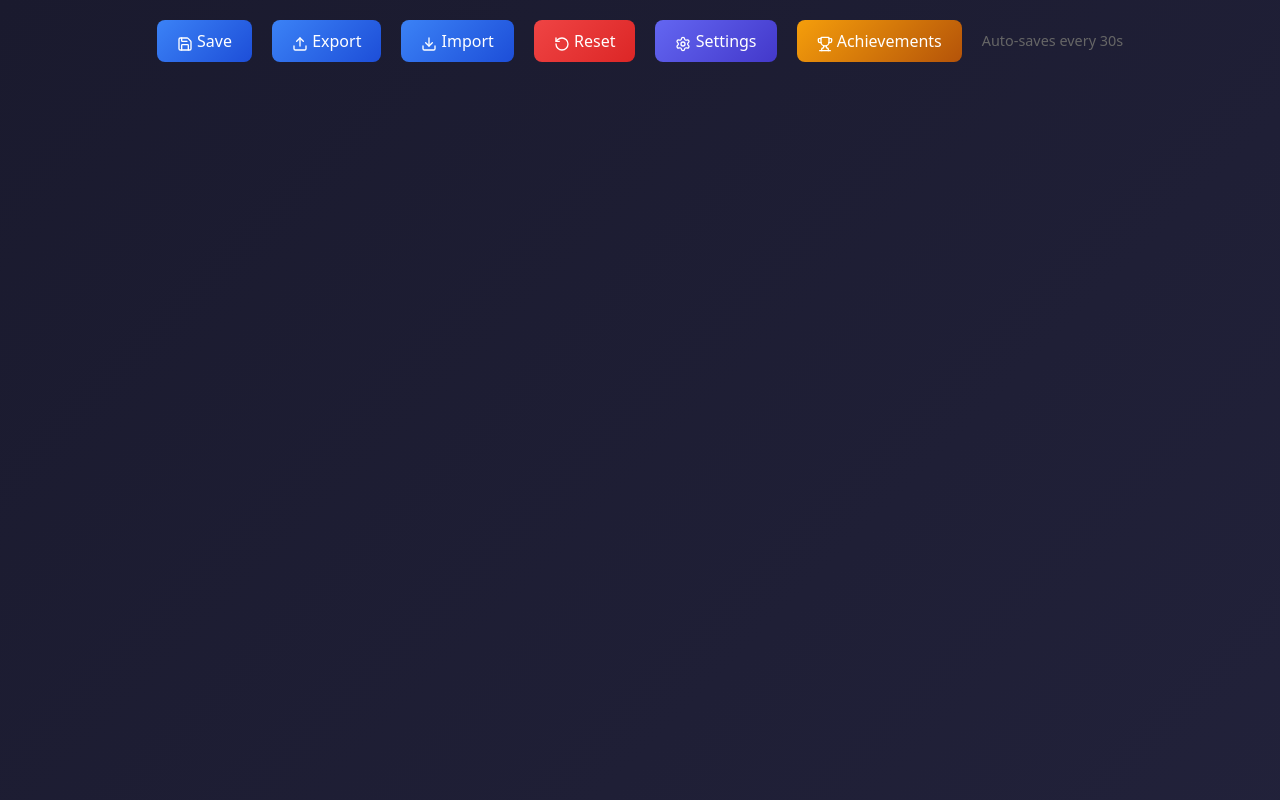
Footer › export functionality › should show success toast after export
The width and height of the screenshot is (1280, 800).
Click the button "Export" at coordinates (327, 41), box [272,20,381,62]
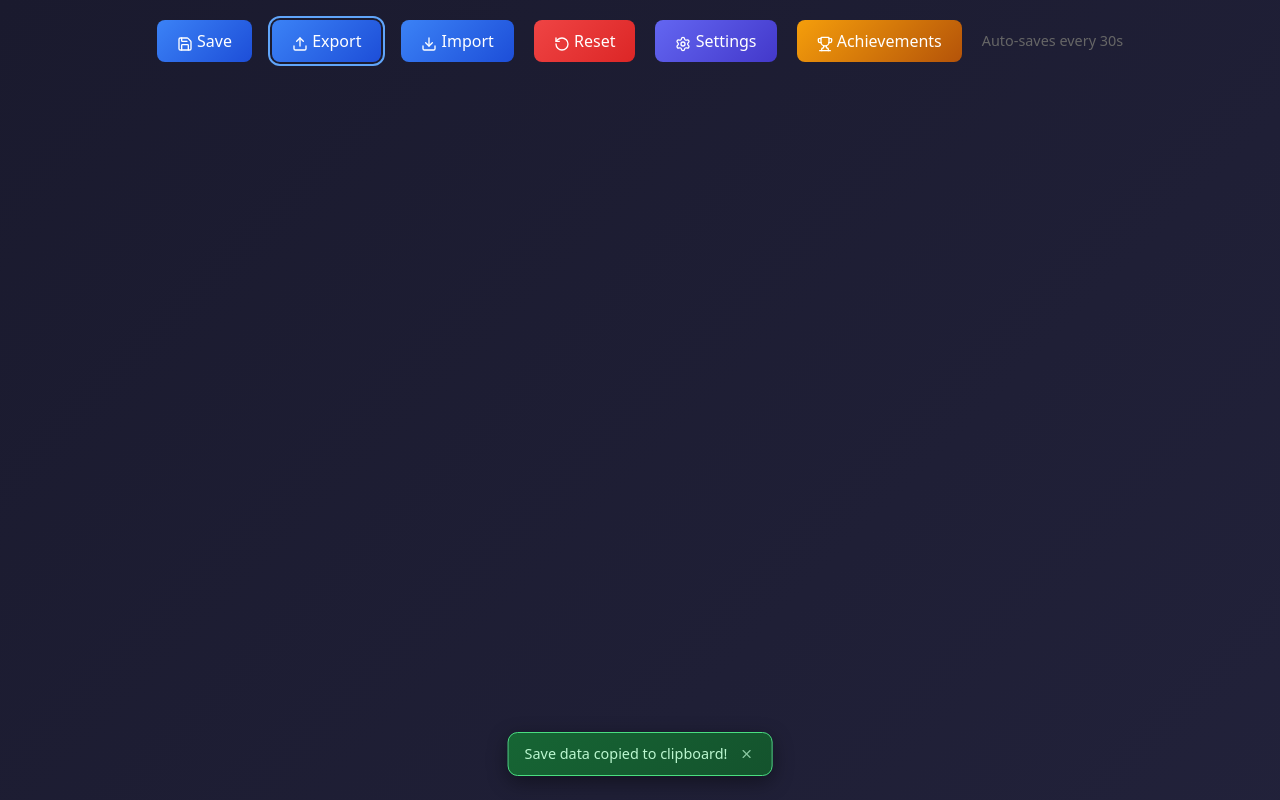
expect the text "Save data copied to clipboard!" is shown: met, box [525,743,727,765]
